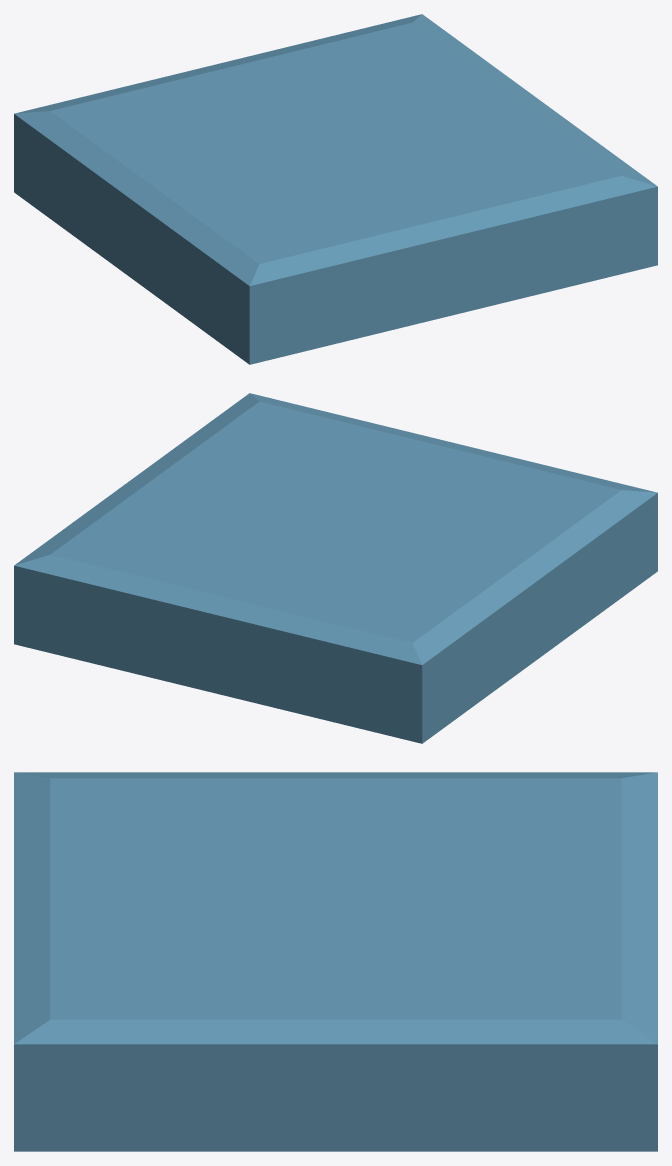
The model's file is Env_BaseFloor.fbx.
3 views of the same model, one above another, from view 1: azimuth 30°, elevation 25°; view 2: azimuth 150°, elevation 25°; view 3: azimuth 270°, elevation 25° (orthographic). The views are drawn at different scales.
Visible parts, largest first — view 1: SM_Box_1x1x.2; view 2: SM_Box_1x1x.2; view 3: SM_Box_1x1x.2.
Boxes of the visible parts, left/top/right/bottom form: SM_Box_1x1x.2: left=14, top=14, right=657, bottom=364; SM_Box_1x1x.2: left=14, top=393, right=657, bottom=743; SM_Box_1x1x.2: left=14, top=772, right=657, bottom=1151.
Bounding box in the file's own units: 4000 × 800 × 4000.
